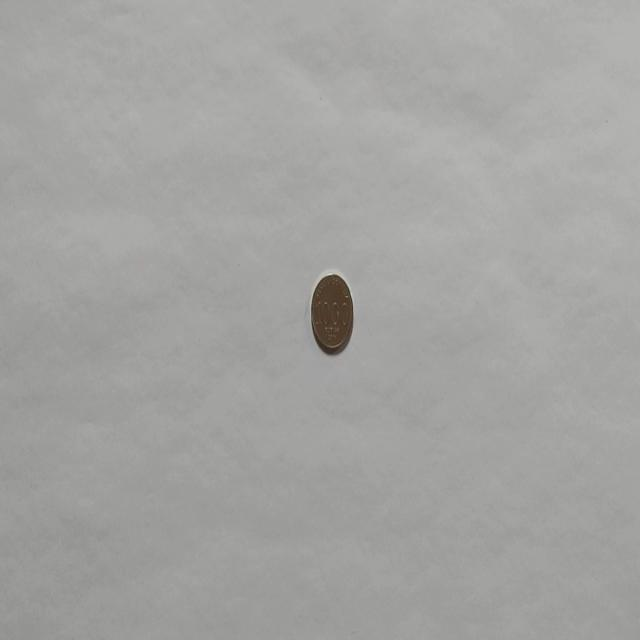seribu rupiah koin: (309, 269, 354, 355)
